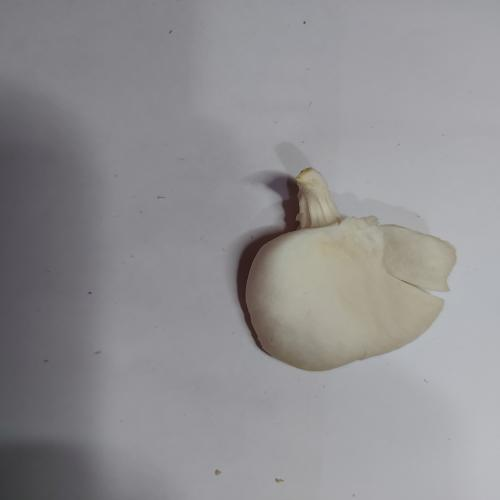Oyster Mushroom: (242, 166, 457, 371)
